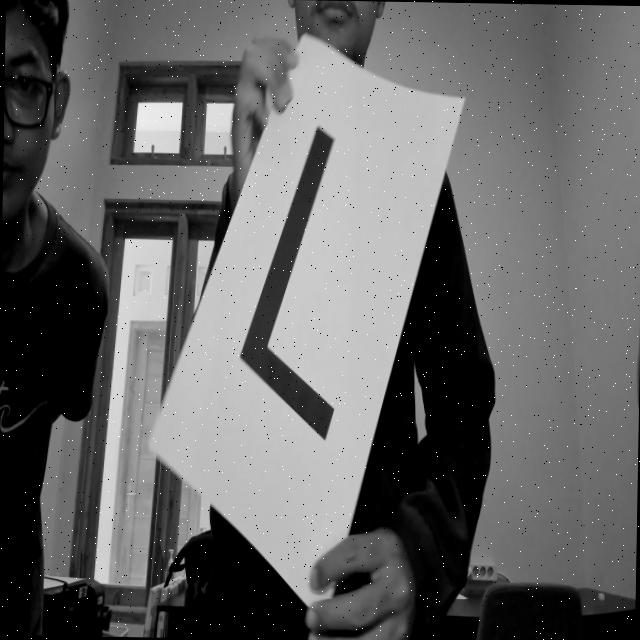l: (220, 105, 413, 465)
